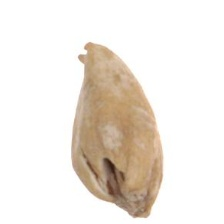L1: (97, 161, 153, 218), (77, 38, 99, 71)
L2: (69, 41, 165, 219)
